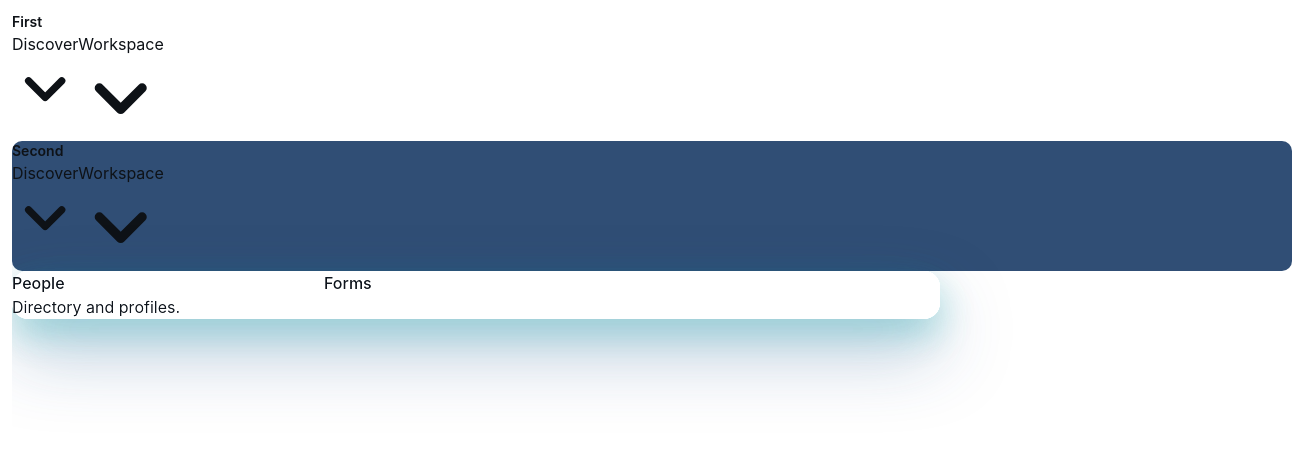
Test: @moritzbrantner/ui overlays-and-navigation › keeps only the latest navbar submenu open across mounted navbars
Expected: the text "Open routes for visitors." is not shown
Expected: the text "Directory and profiles." is shown, [12,297,180,317]
Click the button "Discover" below "First" at {"x": 45, "y": 77}, box [12,32,78,122]
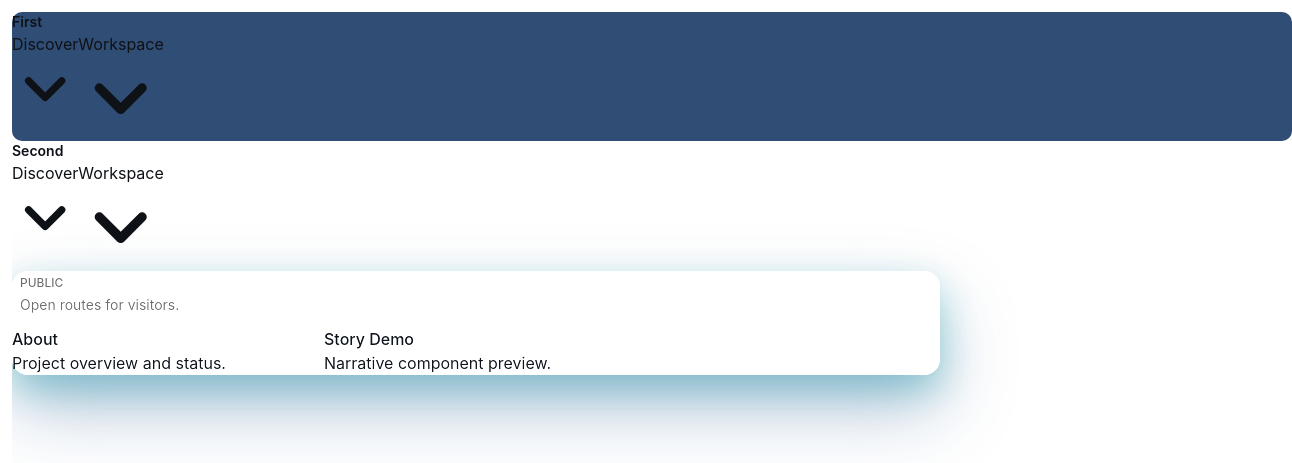
Now the text "Open routes for visitors." is shown, box [20,296,179,313]
Now the link "Directory and profiles." is gone
